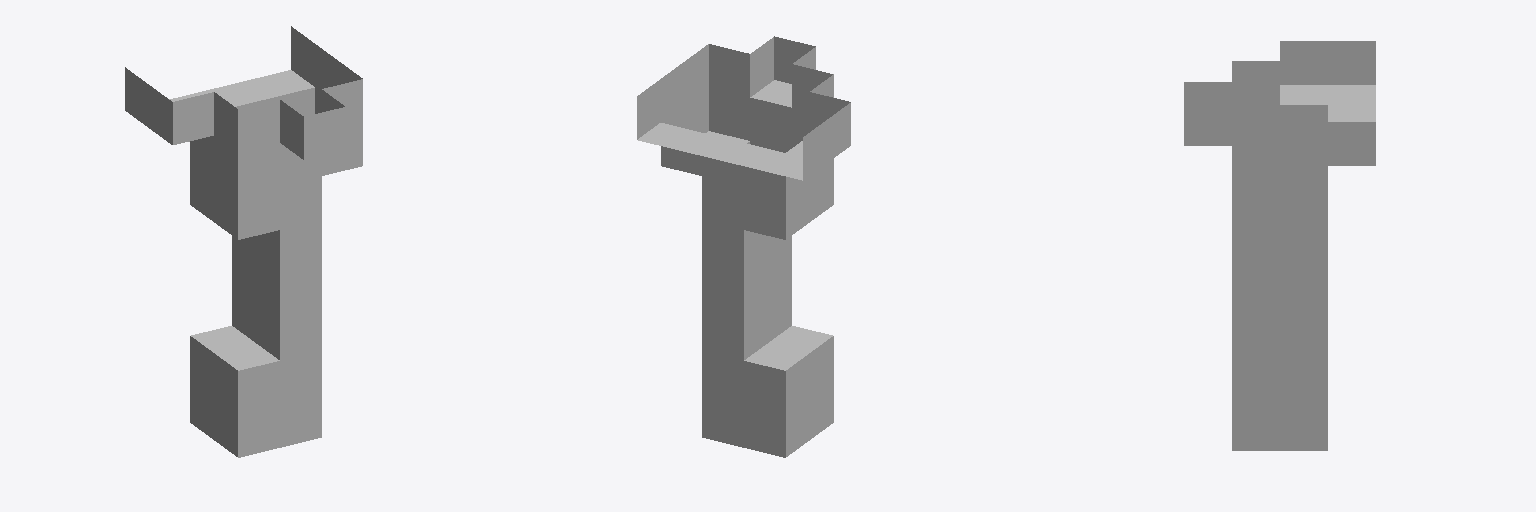
File: front-left2.obj
3 views of the same model, side by side, from view 1: azimuth 30°, elevation 25°; view 2: azimuth 150°, elevation 25°; view 3: azimuth 270°, elevation 25° (orthographic).
Parts seen in each view (by area): view 1: front-left_x24_przewalski_horse.001; view 2: front-left_x24_przewalski_horse.001; view 3: front-left_x24_przewalski_horse.001.
Boxes of the visible parts, <box> form: front-left_x24_przewalski_horse.001: <box>125,26,362,457</box>; front-left_x24_przewalski_horse.001: <box>637,36,850,457</box>; front-left_x24_przewalski_horse.001: <box>1184,41,1375,450</box>.
Bounding box in the file's own units: 4 × 8 × 4.